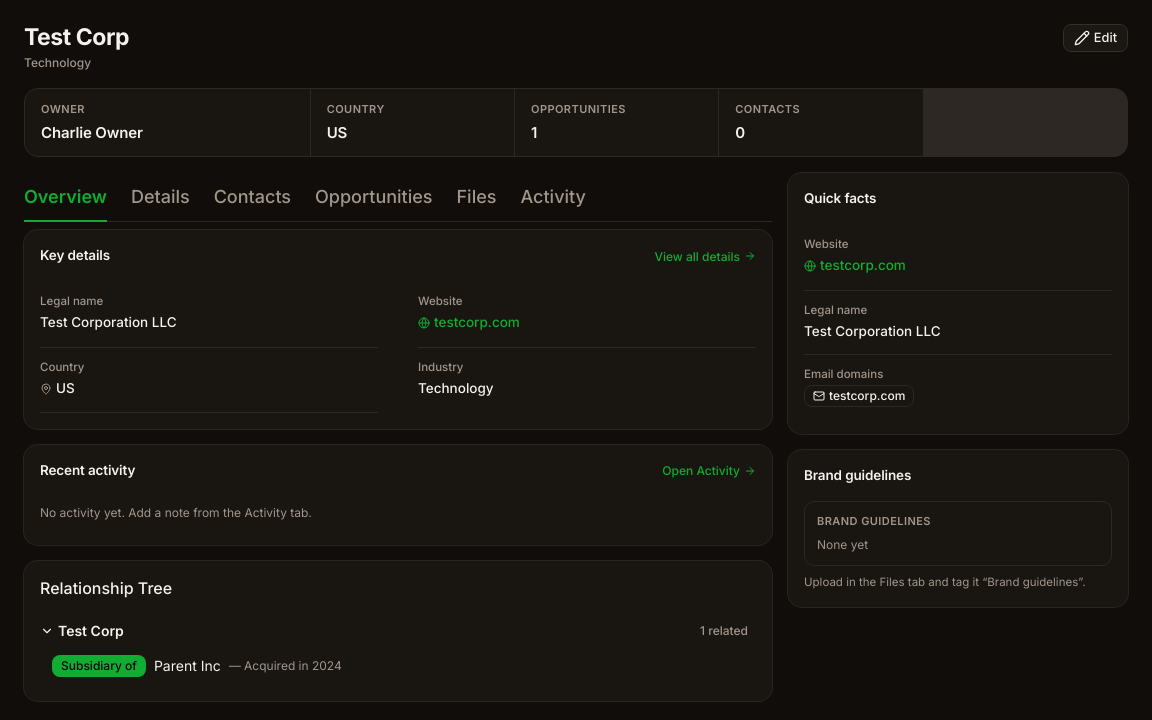
AccountDetailWrapper › contacts tab › shows the empty state when there are no contacts
Click the tab "Contacts" at (252, 198), box [214,173,291,222]
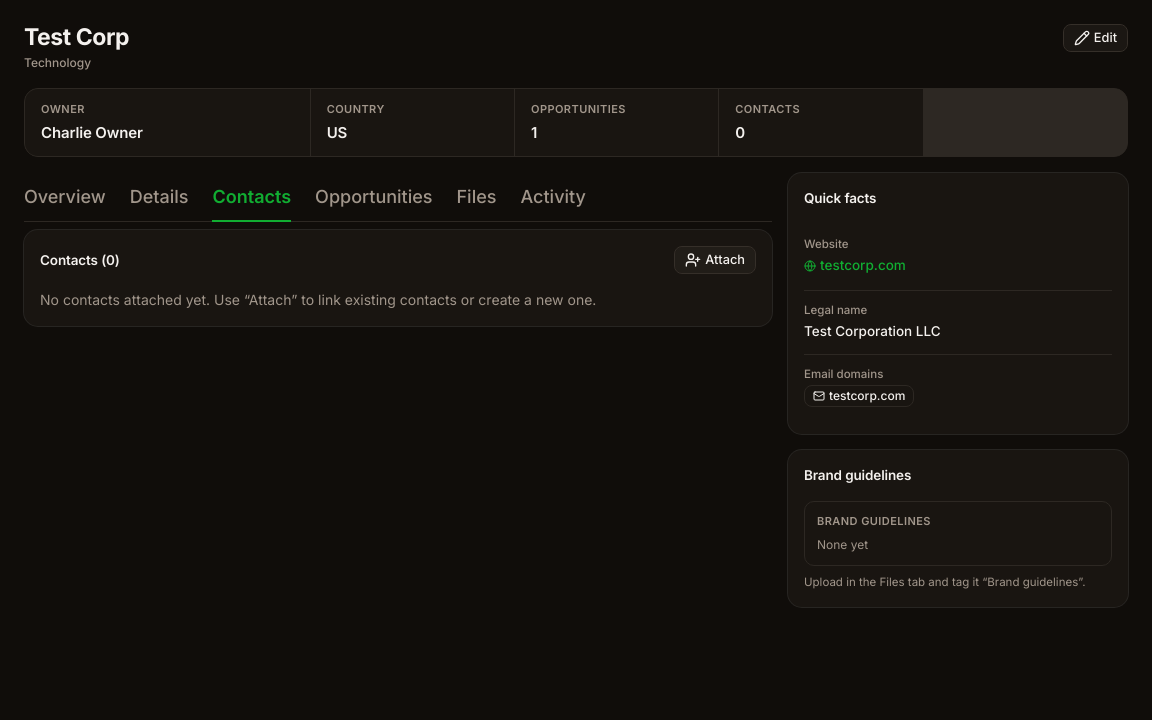
Expected: the text "Contacts (0)" is shown, [40,251,120,270]
Expected: the text "No contacts attached yet" is shown, [40,291,596,308]
